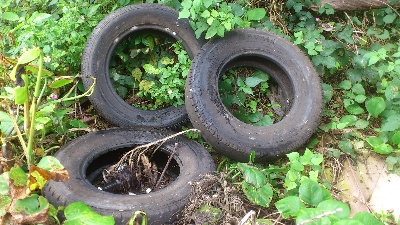tire: (185, 28, 328, 163), (40, 126, 217, 225), (81, 3, 213, 128)
